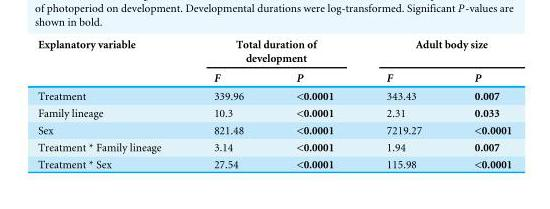table: (37, 36, 511, 170)
table column: (37, 36, 186, 170), (269, 36, 359, 170), (359, 36, 447, 170), (186, 36, 269, 170), (447, 36, 511, 170)
table column header: (37, 36, 511, 85)
table row: (37, 36, 511, 66), (37, 66, 511, 85), (37, 85, 511, 103), (37, 103, 511, 120), (37, 120, 511, 137), (37, 137, 511, 154), (37, 154, 511, 170)
table spanning cell: (37, 36, 186, 85), (186, 36, 359, 66), (359, 36, 511, 66)
